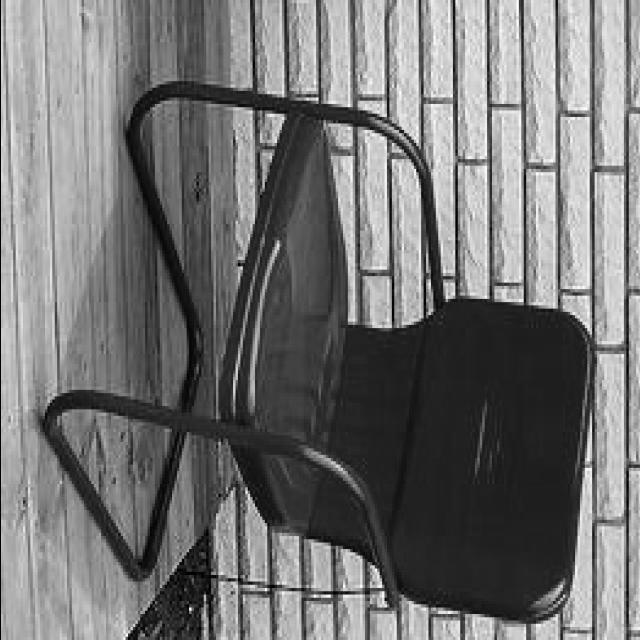chair: (37, 74, 596, 626)
